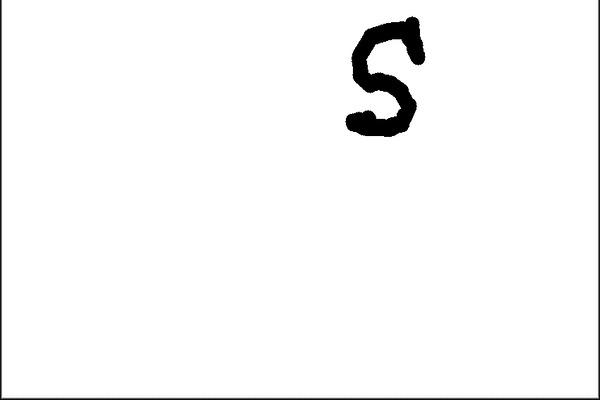S: (342, 12, 436, 143)
